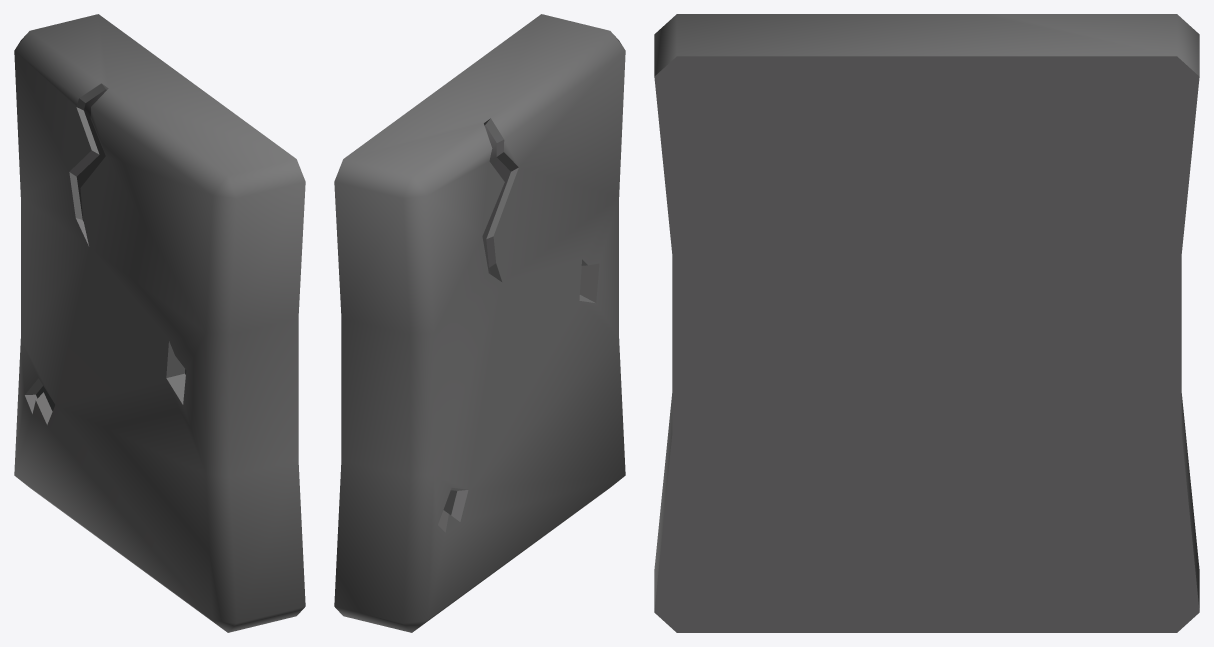
The model's file is Table_2_3.obj.
The picture shows the model from 3 angles, left to right: view 1: azimuth 30°, elevation 25°; view 2: azimuth 150°, elevation 25°; view 3: azimuth 270°, elevation 25°; orthographic projection. The views are drawn at different scales.
Visible parts, largest first — view 1: Table_2_3; view 2: Table_2_3; view 3: Table_2_3.
Part boxes in pixels (box(x1,y1,x2,y2)): Table_2_3: box(14, 14, 305, 632); Table_2_3: box(334, 14, 625, 632); Table_2_3: box(654, 14, 1199, 632).
Size of the model in its own units: 0.0894 by 0.4635 by 0.3972.
